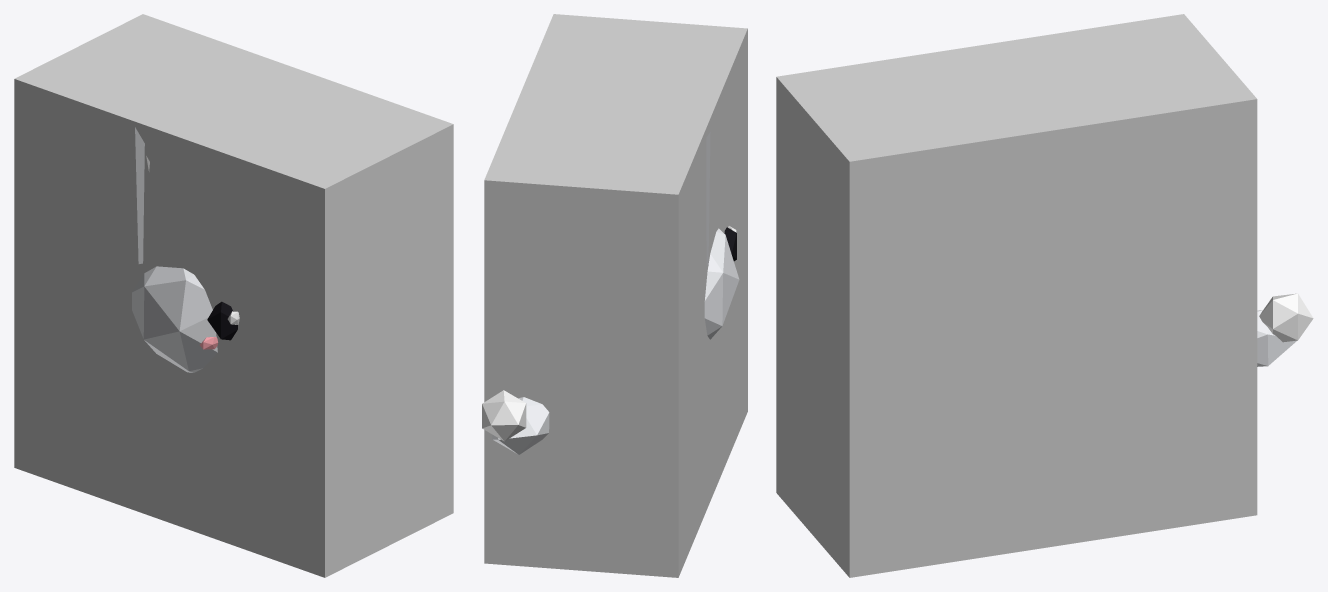
File: tundra_pet2.fbx
The picture shows the model from 3 angles, left to right: view 1: azimuth 30°, elevation 25°; view 2: azimuth 150°, elevation 25°; view 3: azimuth 270°, elevation 25°; orthographic projection. The views are drawn at different scales.
Visible parts, largest first — view 1: Root__0.00_0.47_0.09__0.44_0.95_0.90, Head__Body__0.00_0.36_-0.07; view 2: Root__0.00_0.47_0.09__0.44_0.95_0.90, Head__Body__0.00_0.36_-0.07, Tail__Body__0.00_0.29_0.29; view 3: Root__0.00_0.47_0.09__0.44_0.95_0.90, Tail__Body__0.00_0.29_0.29.
Boxes of the visible parts, x1,y1,x2,y2 form: Root__0.00_0.47_0.09__0.44_0.95_0.90: (14,14,453,577); Head__Body__0.00_0.36_-0.07: (132,127,239,372); Root__0.00_0.47_0.09__0.44_0.95_0.90: (484,14,747,577); Head__Body__0.00_0.36_-0.07: (704,132,739,339); Tail__Body__0.00_0.29_0.29: (482,390,549,454); Root__0.00_0.47_0.09__0.44_0.95_0.90: (776,14,1257,577); Tail__Body__0.00_0.29_0.29: (1257,293,1313,366).
Size of the model in its own units: 20.26 by 26.78 by 31.12.
1 material, 1 textured.
